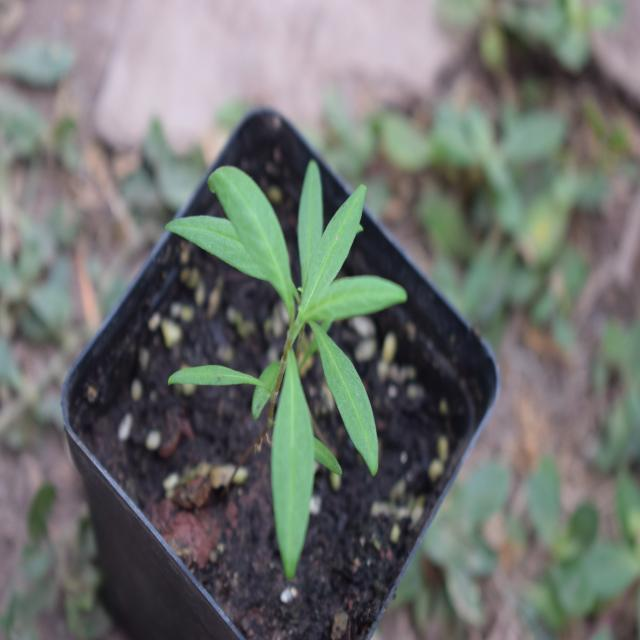white_smart_weed: (182, 142, 441, 560)
